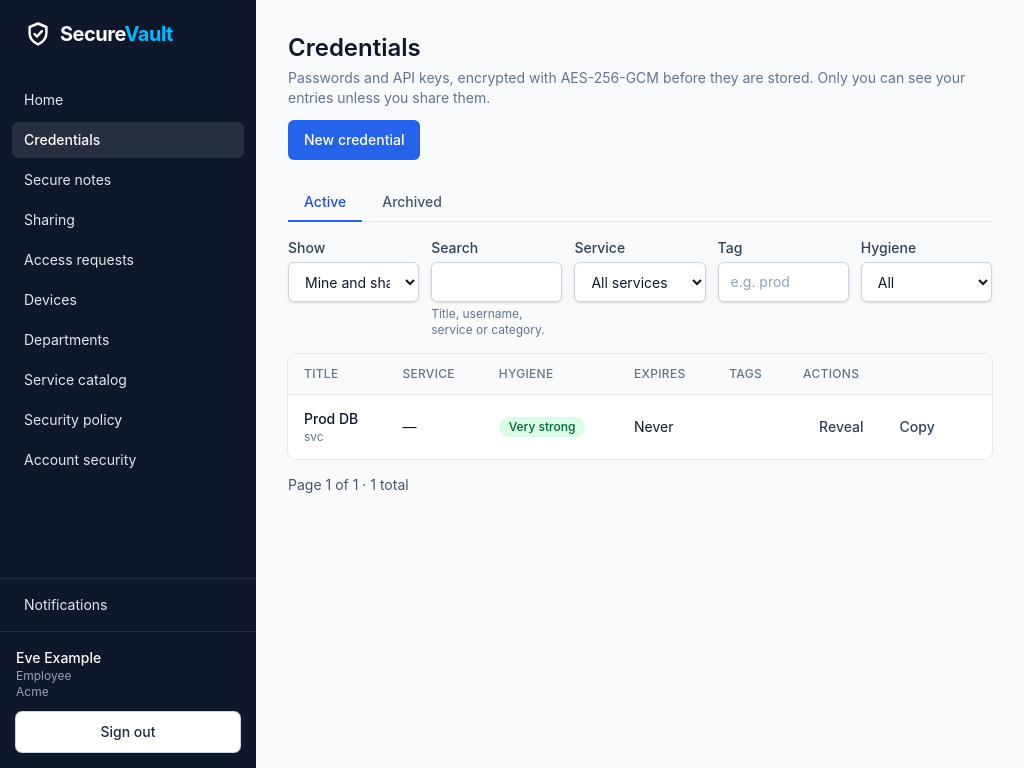
Test: sharing a credential › explains a consumed view-once share when the server answers 410
Click the button with aria-label "Reveal Prod DB" at (841, 427), box [803,407,880,447]
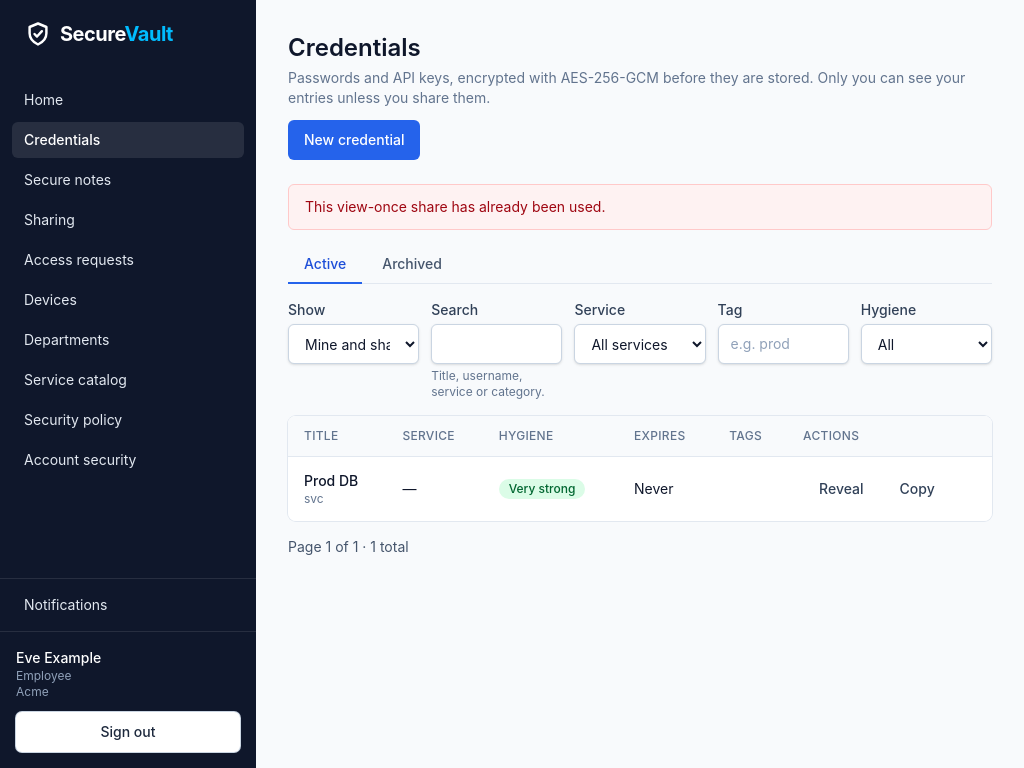
Now the message shows "already been used", box [305,198,605,215]
